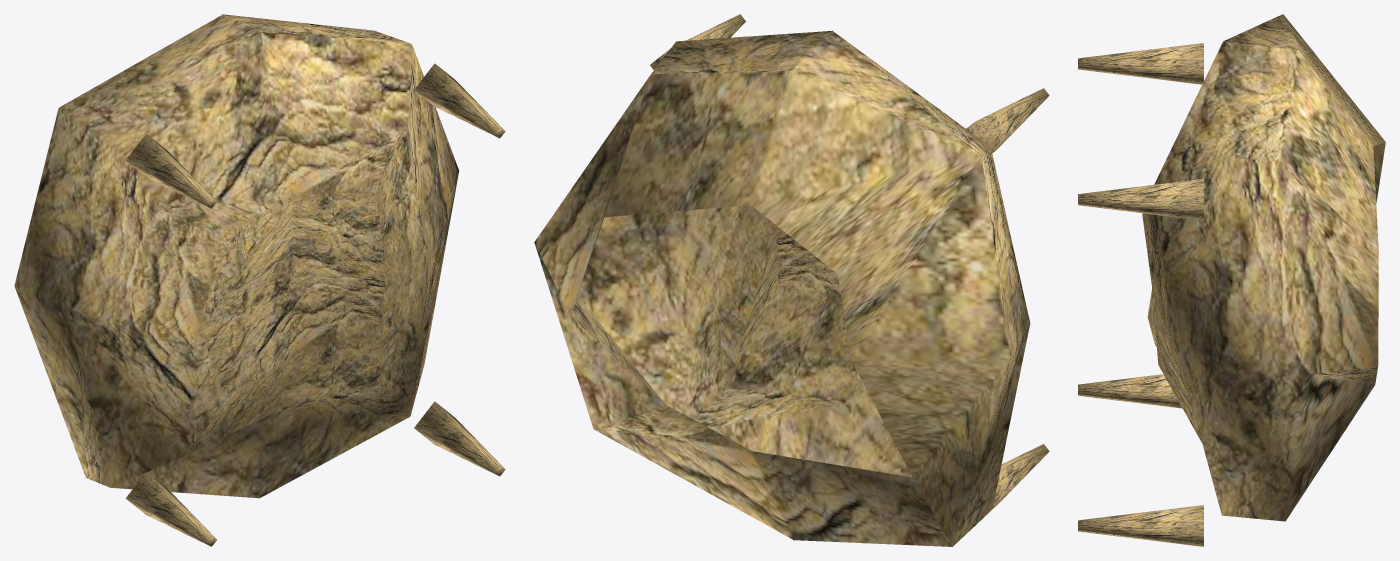
The model's file is stone_000026.obj.
The picture shows the model from 3 angles, left to right: view 1: azimuth 30°, elevation 25°; view 2: azimuth 150°, elevation 25°; view 3: azimuth 270°, elevation 25°; orthographic projection. The views are drawn at different scales.
Parts seen in each view (by area): view 1: Cube, Cube.001, Cylinder.001, Cylinder, Cylinder.002, Cylinder.003; view 2: Cube.001, Cube, Cylinder, Cylinder.001, Cylinder.003; view 3: Cube.001, Cube, Cylinder.003, Cylinder.002, Cylinder, Cylinder.001.
Boxes of the visible parts, x1=… form: Cube: x1=14, y1=14, x2=295, y2=498; Cube.001: x1=223, y1=14, x2=458, y2=498; Cylinder.001: x1=126, y1=472, x2=216, y2=546; Cylinder: x1=126, y1=134, x2=216, y2=208; Cylinder.002: x1=414, y1=401, x2=505, y2=476; Cylinder.003: x1=414, y1=63, x2=505, y2=138; Cube.001: x1=534, y1=31, x2=858, y2=539; Cube: x1=750, y1=30, x2=1030, y2=546; Cylinder: x1=966, y1=88, x2=1049, y2=153; Cylinder.001: x1=992, y1=444, x2=1049, y2=508; Cylinder.003: x1=650, y1=14, x2=745, y2=69; Cube.001: x1=1142, y1=41, x2=1378, y2=521; Cube: x1=1147, y1=14, x2=1385, y2=347; Cylinder.003: x1=1078, y1=178, x2=1203, y2=220; Cylinder.002: x1=1078, y1=505, x2=1203, y2=546; Cylinder: x1=1078, y1=43, x2=1203, y2=84; Cylinder.001: x1=1078, y1=374, x2=1182, y2=408.
Size of the model in its own units: 6.65 by 6.59 by 4.1.
